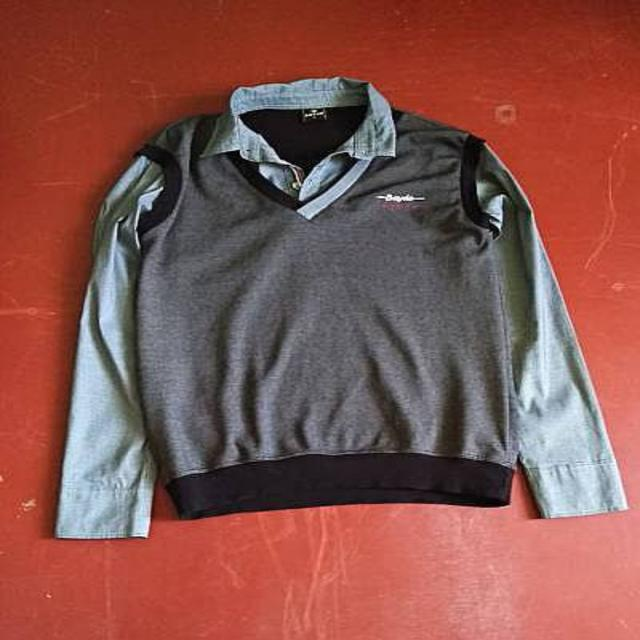SHIRT: (46, 65, 640, 546)
